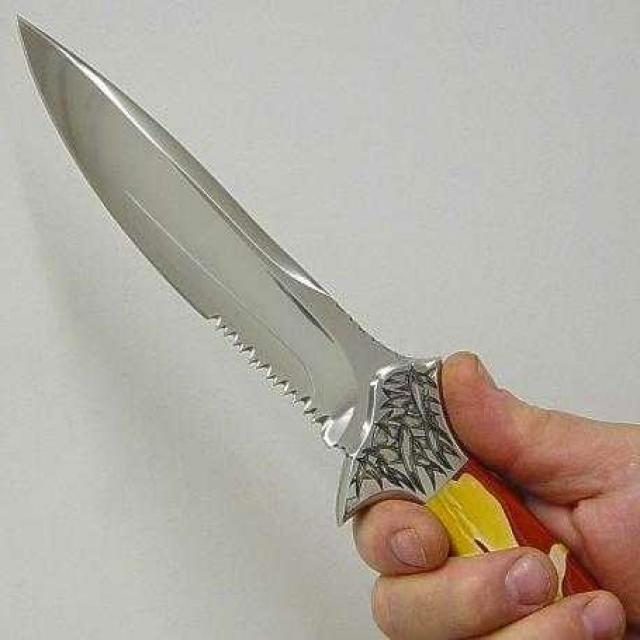Knife: (19, 19, 598, 592)
